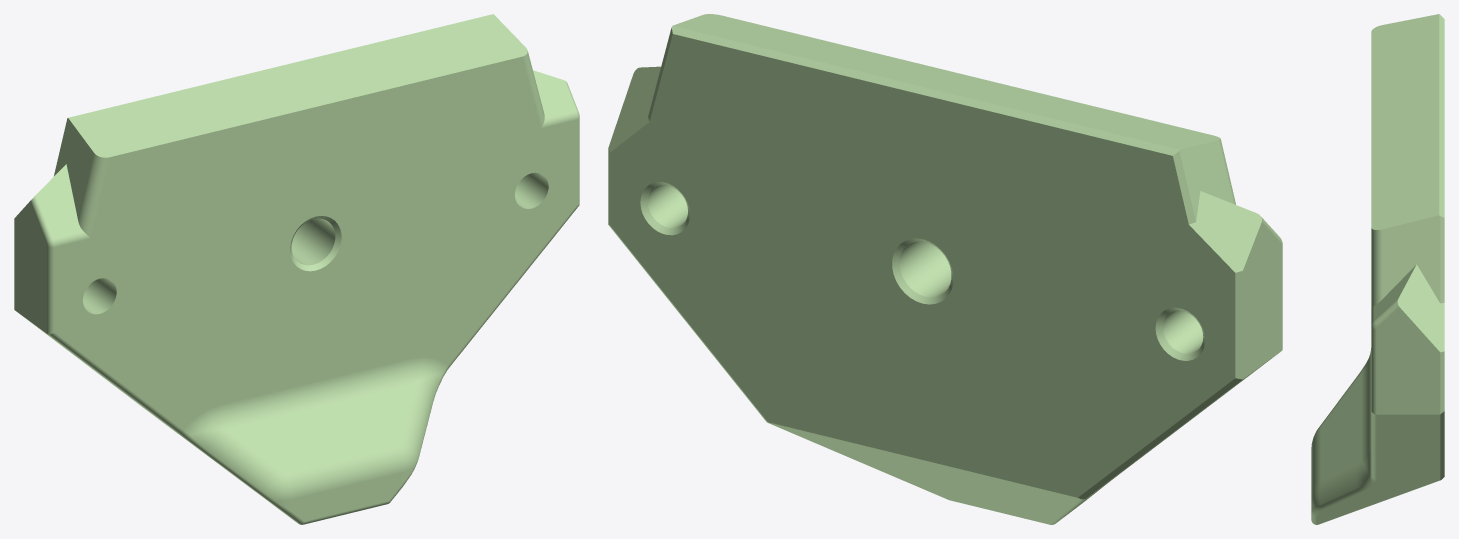
File: A4T - WWBMG - Extruder Adapter [xol-carriage].gltf
The picture shows the model from 3 angles, left to right: view 1: azimuth 30°, elevation 25°; view 2: azimuth 150°, elevation 25°; view 3: azimuth 270°, elevation 25°; orthographic projection. The views are drawn at different scales.
Parts seen in each view (by area): view 1: A4T - WWBMG - Extruder Adapter [xol-carriage] - 6T; view 2: A4T - WWBMG - Extruder Adapter [xol-carriage] - 6T; view 3: A4T - WWBMG - Extruder Adapter [xol-carriage] - 6T.
Part boxes in pixels (x1,y1,x2,y2): A4T - WWBMG - Extruder Adapter [xol-carriage] - 6T: (14, 14, 579, 524); A4T - WWBMG - Extruder Adapter [xol-carriage] - 6T: (608, 14, 1282, 524); A4T - WWBMG - Extruder Adapter [xol-carriage] - 6T: (1311, 14, 1444, 524).
Size of the model in its own units: 0.0536 by 0.0387 by 0.012.
